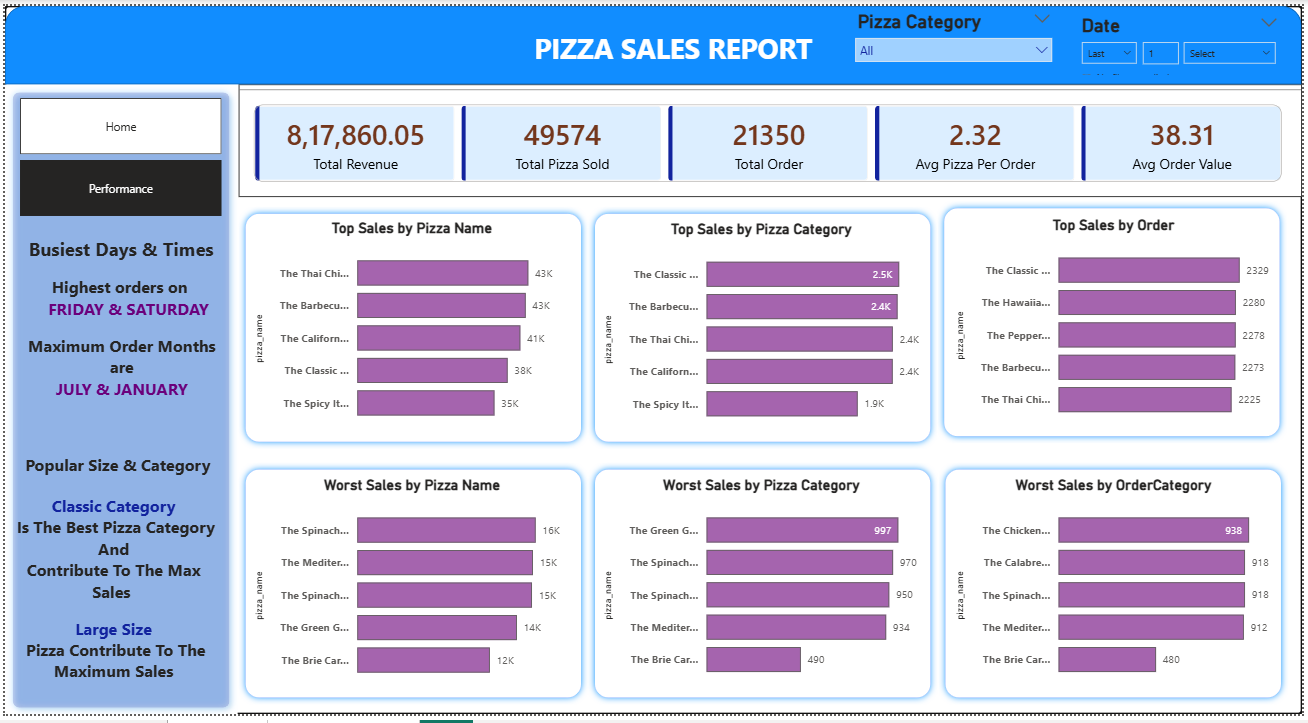

What the dashboard file says about the page in this screenshot:
{"tool":"powerbi","page":{"name":"Performance","canvas":[1500,820],"ordinal":1},"visuals":[{"type":"shape","box":[0,90.7,268.8,730.1],"z":0},{"type":"textbox","box":[17.5,260.9,233.8,46.1],"z":1000},{"type":"cardVisual","fields":{"Data":["public pizza_sales.Total Revenue","public pizza_sales.Total Pizza Sold","public pizza_sales.Total Order","public pizza_sales.Avg Pizza Per Order","public pizza_sales.Avg Order Value"]},"box":[270.4,90.7,1229.5,130.4],"z":2000},{"type":"shape","box":[0,0,1499.9,90.7],"z":3000},{"type":"textbox","box":[572.6,22.3,400.8,57.3],"z":4000},{"type":"shape","box":[270.4,232.2,404,279.9],"z":5000},{"type":"textbox","box":[9.5,307,251.3,198.8],"z":6000},{"type":"textbox","box":[0,559.9,251.3,248.1],"z":7000},{"type":"textbox","box":[9.5,512.2,241.8,46.1],"z":8000},{"type":"slicer","fields":{"Values":["public pizza_sales.pizza_category"]},"box":[973.4,0,248.1,79.5],"z":9000},{"type":"slicer","fields":{"Values":["public pizza_sales.order_date"]},"box":[1232.7,4.8,251.3,74.8],"z":10000},{"type":"shape","box":[674.4,232.2,404,279.9],"z":11000},{"type":"shape","box":[1078.4,225.9,404,279.9],"z":12000},{"type":"shape","box":[270.4,528.1,404,279.9],"z":13000},{"type":"shape","box":[674.4,528.1,404,279.9],"z":14000},{"type":"shape","box":[1080,528.1,404,279.9],"z":15000},{"type":"barChart","title":"Top Sales by Pizza Name","fields":{"Category":["public pizza_sales.pizza_name"],"Y":["public pizza_sales.Total Revenue"]},"box":[283.1,246.5,375.4,248.1],"z":16000},{"type":"barChart","title":"Worst Sales by Pizza Name","fields":{"Category":["public pizza_sales.pizza_name"],"Y":["public pizza_sales.Total Revenue"]},"box":[283.1,544,375.4,248.1],"z":17000},{"type":"barChart","title":"Top Sales by Pizza Category","fields":{"Category":["public pizza_sales.pizza_name"],"Y":["Sum(public pizza_sales.quantity)"]},"box":[687.5,247.4,375.9,247.4],"z":17001},{"type":"barChart","title":"Worst Sales by Pizza Category","fields":{"Category":["public pizza_sales.pizza_name"],"Y":["Sum(public pizza_sales.quantity)"]},"box":[687.5,544,375.9,247.4],"z":17002},{"type":"barChart","title":"Top Sales by Order","fields":{"Category":["public pizza_sales.pizza_name"],"Y":["public pizza_sales.Total Order"]},"box":[1093.6,243.7,375.9,247.4],"z":17003},{"type":"barChart","title":"Worst Sales by OrderCategory","fields":{"Category":["public pizza_sales.pizza_name"],"Y":["public pizza_sales.Total Order"]},"box":[1093.6,544,375.9,247.4],"z":17004},{"type":"pageNavigator","box":[17.5,106.6,233.8,65.2],"z":17005},{"type":"pageNavigator","box":[17.5,178.1,233.8,65.2],"z":17006}]}

Visuals, with their boxes in screenshot pixels (x1, y1, x2, y2), scaled from the page's 1500x820 canvas onto the 1308x723 screenshot:
shape: box=[0, 80, 234, 722]
textbox: box=[15, 230, 219, 271]
cardVisual - public pizza_sales.Total Revenue x public pizza_sales.Total Pizza Sold: box=[236, 80, 1307, 195]
shape: box=[0, 0, 1307, 80]
textbox: box=[499, 20, 849, 70]
shape: box=[236, 205, 588, 452]
textbox: box=[8, 271, 227, 446]
textbox: box=[0, 494, 219, 712]
textbox: box=[8, 452, 219, 492]
slicer - public pizza_sales.pizza_category: box=[849, 0, 1065, 70]
slicer - public pizza_sales.order_date: box=[1075, 4, 1294, 70]
shape: box=[588, 205, 940, 452]
shape: box=[940, 199, 1293, 446]
shape: box=[236, 466, 588, 712]
shape: box=[588, 466, 940, 712]
shape: box=[942, 466, 1294, 712]
"Top Sales by Pizza Name" barChart: box=[247, 217, 574, 436]
"Worst Sales by Pizza Name" barChart: box=[247, 480, 574, 698]
"Top Sales by Pizza Category" barChart: box=[600, 218, 927, 436]
"Worst Sales by Pizza Category" barChart: box=[600, 480, 927, 698]
"Top Sales by Order" barChart: box=[954, 215, 1281, 433]
"Worst Sales by OrderCategory" barChart: box=[954, 480, 1281, 698]
pageNavigator: box=[15, 94, 219, 151]
pageNavigator: box=[15, 157, 219, 215]
